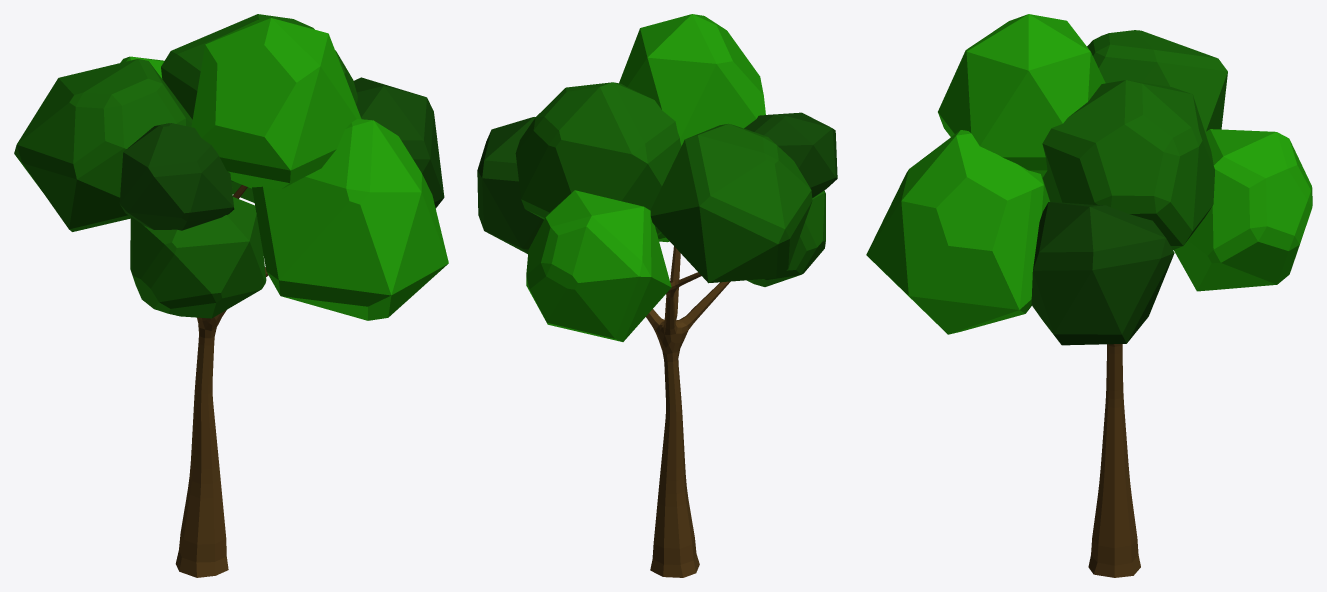
Rendered from small-tree-3.glb.
The picture shows the model from 3 angles, left to right: view 1: azimuth 30°, elevation 25°; view 2: azimuth 150°, elevation 25°; view 3: azimuth 270°, elevation 25°; orthographic projection. The views are drawn at different scales.
Parts seen in each view (by area): view 1: Small Tree 3; view 2: Small Tree 3; view 3: Small Tree 3.
Boxes of the visible parts, left/top/right/bottom form: Small Tree 3: left=14, top=14, right=448, bottom=577; Small Tree 3: left=477, top=14, right=837, bottom=577; Small Tree 3: left=866, top=14, right=1312, bottom=577.
Size of the model in its own units: 10.86 by 15.93 by 11.41.
